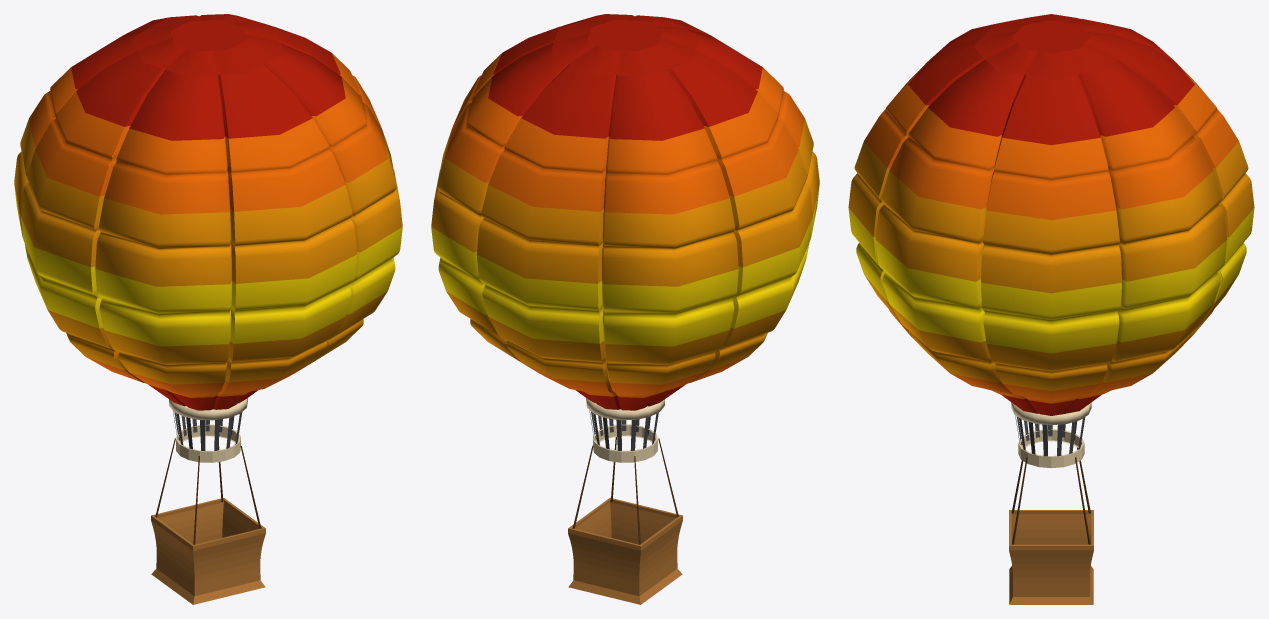
Rendered from 02redHotballoon.fbx.
3 renders of one model, left to right at view 1: azimuth 30°, elevation 25°; view 2: azimuth 150°, elevation 25°; view 3: azimuth 270°, elevation 25°, orthographic.
Parts seen in each view (by area): view 1: Sphere.001; view 2: Sphere.001; view 3: Sphere.001.
Boxes of the visible parts, x1=… form: Sphere.001: x1=14, y1=14, x2=402, y2=604; Sphere.001: x1=431, y1=14, x2=819, y2=604; Sphere.001: x1=848, y1=14, x2=1254, y2=604.
Size of the model in its own units: 2056 by 3073 by 2056.
